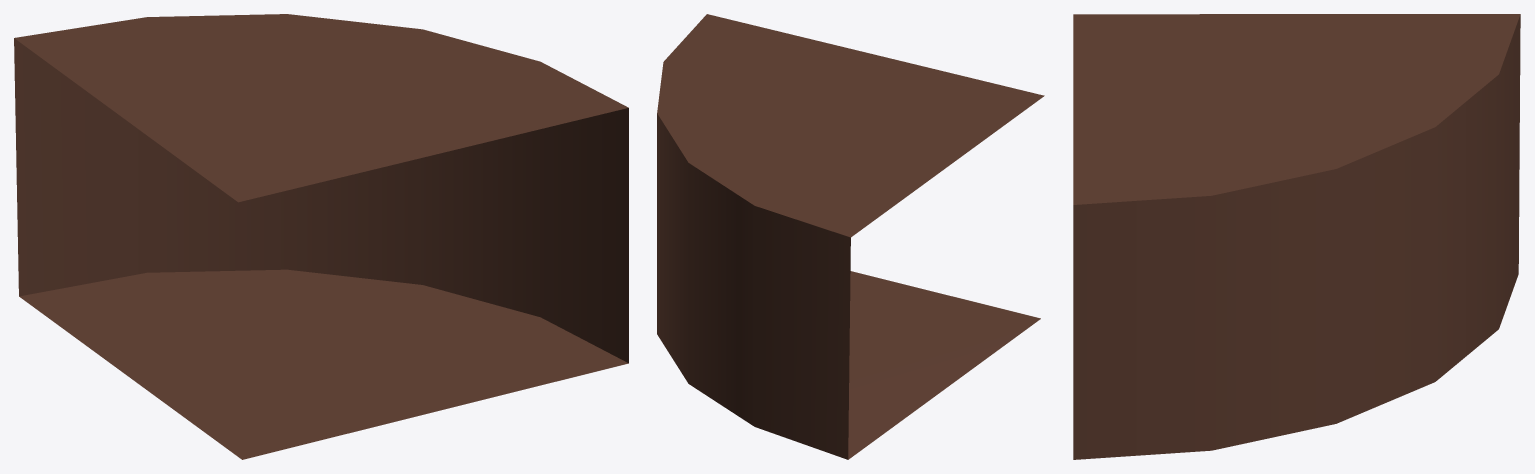
Rendered from Stair_angle.fbx.
3 views of the same model, side by side, from view 1: azimuth 30°, elevation 25°; view 2: azimuth 150°, elevation 25°; view 3: azimuth 270°, elevation 25° (orthographic). The views are drawn at different scales.
Parts seen in each view (by area): view 1: stair_angle; view 2: stair_angle; view 3: stair_angle.
Boxes of the visible parts, left/top/right/bottom form: stair_angle: left=14, top=14, right=628, bottom=459; stair_angle: left=657, top=14, right=1044, bottom=459; stair_angle: left=1073, top=14, right=1520, bottom=459.
Size of the model in its own units: 0.1746 by 0.1105 by 0.1736.
